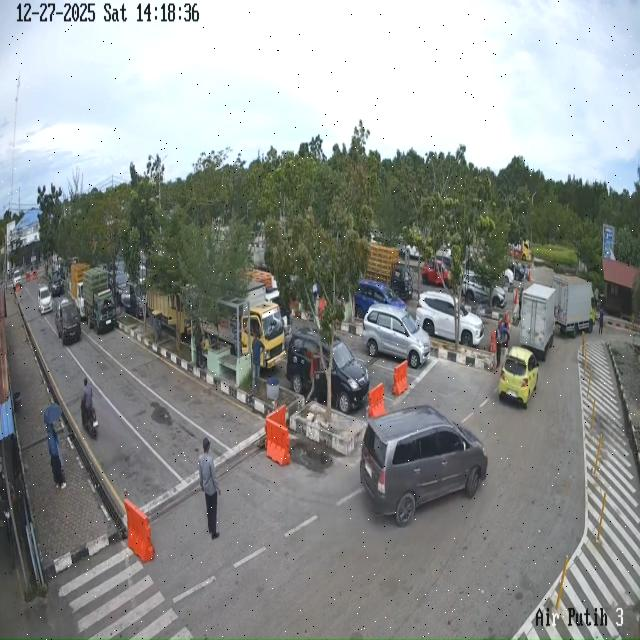Golongan IVA: (360, 405, 488, 527), (286, 327, 370, 414), (362, 304, 430, 369), (416, 291, 484, 347), (498, 346, 540, 408), (354, 279, 406, 320), (462, 271, 506, 308), (37, 285, 52, 315), (49, 270, 64, 298)
Golongan IVB: (83, 267, 117, 334), (54, 296, 82, 345), (69, 262, 90, 320)
Golongan VB: (201, 282, 286, 369), (552, 274, 596, 337), (520, 283, 555, 361)
